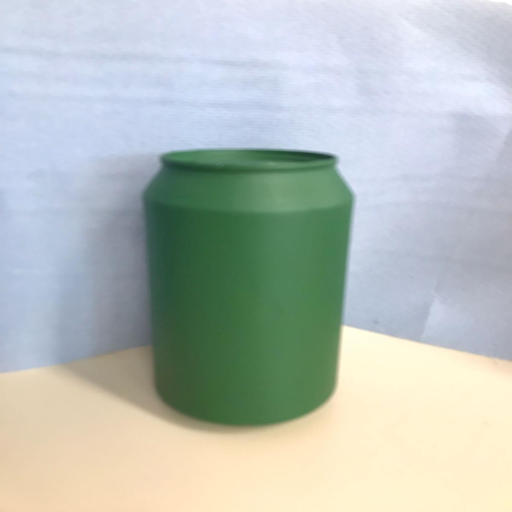Green_Can: (135, 143, 356, 430)
